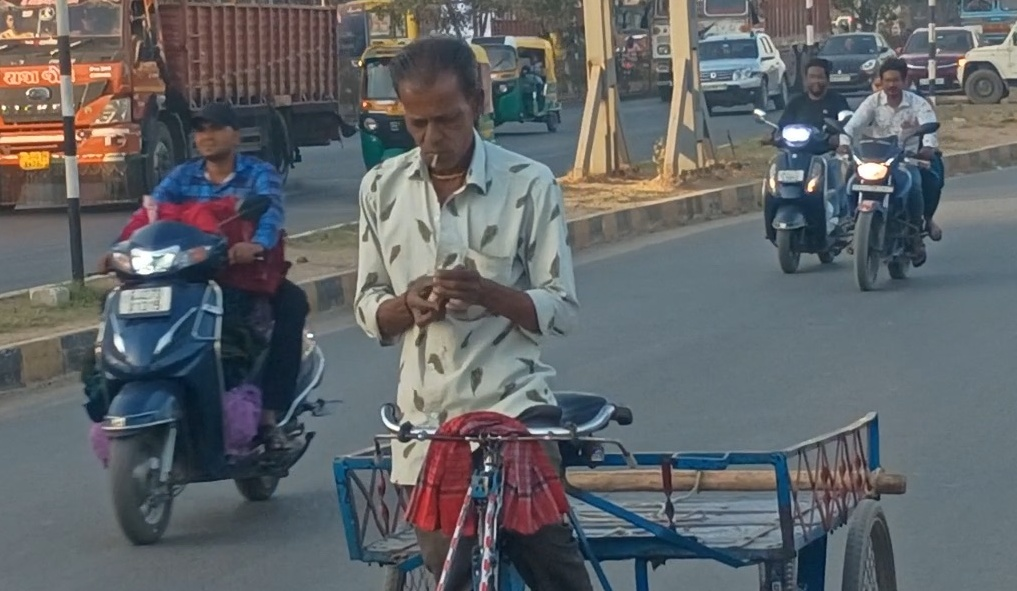BikeWithRider: (69, 94, 347, 550), (831, 52, 958, 297), (747, 53, 866, 278)
NoHelmet: (180, 95, 248, 169), (870, 55, 913, 105), (795, 54, 837, 100)
